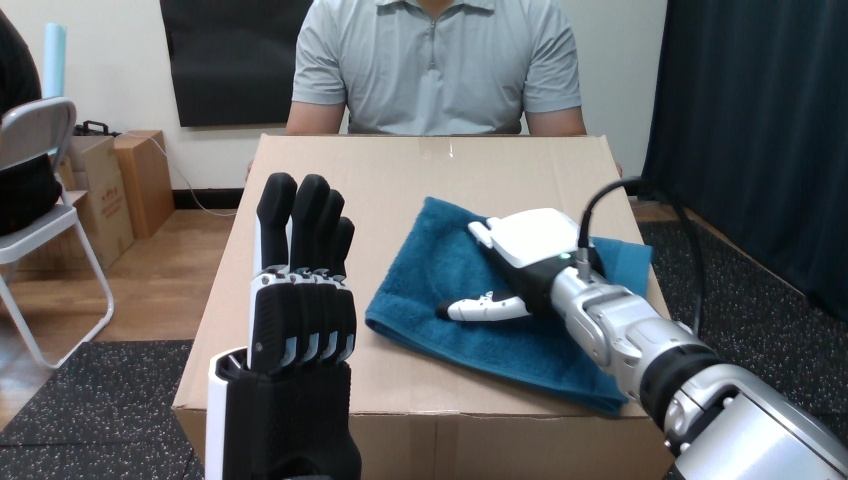left robot hand: (205, 173, 360, 478), (668, 320, 847, 478)
